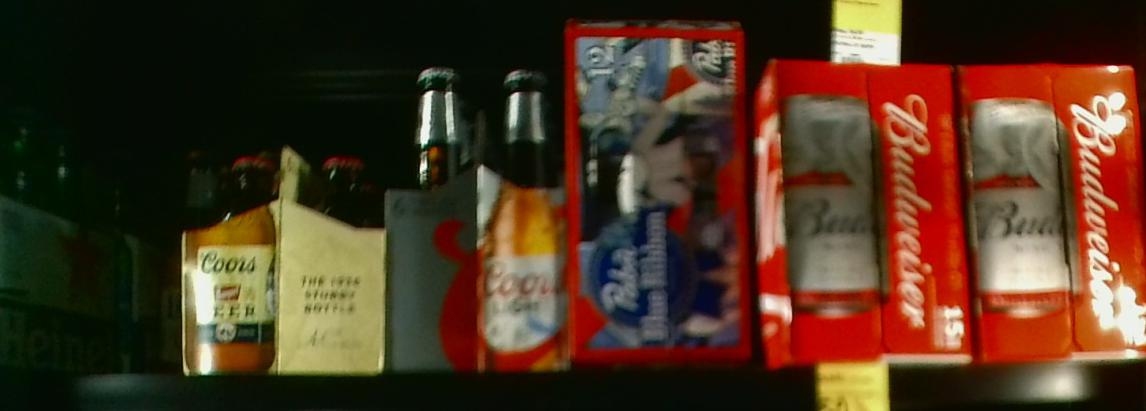bottle: (567, 17, 759, 378), (761, 64, 973, 366), (385, 61, 573, 370), (967, 59, 1145, 371), (181, 131, 383, 376)
